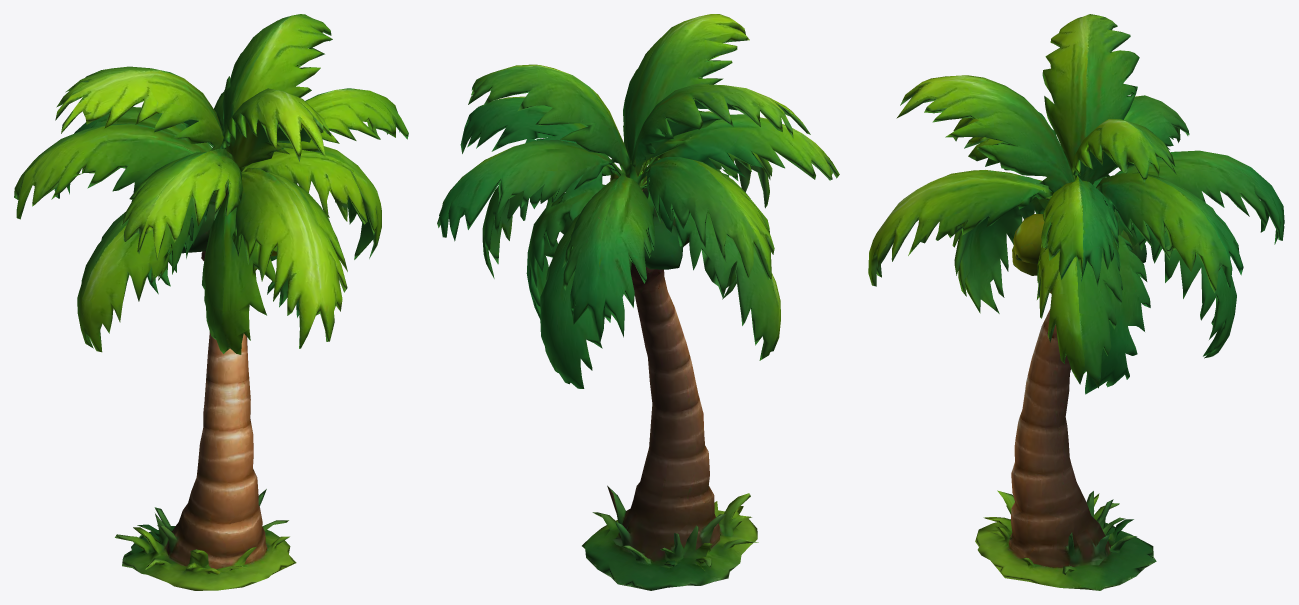
The model's file is coconut.glb.
The picture shows the model from 3 angles, left to right: view 1: azimuth 30°, elevation 25°; view 2: azimuth 150°, elevation 25°; view 3: azimuth 270°, elevation 25°; orthographic projection.
Size of the model in its own units: 0.7018 by 0.9804 by 0.7345.
1 material, 1 textured.
